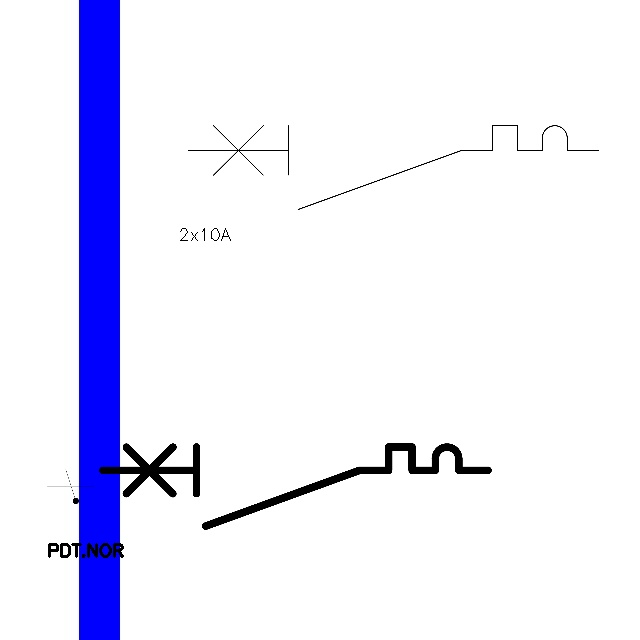interruptor_termomagnetico: (178, 115, 609, 220), (92, 437, 497, 536)
